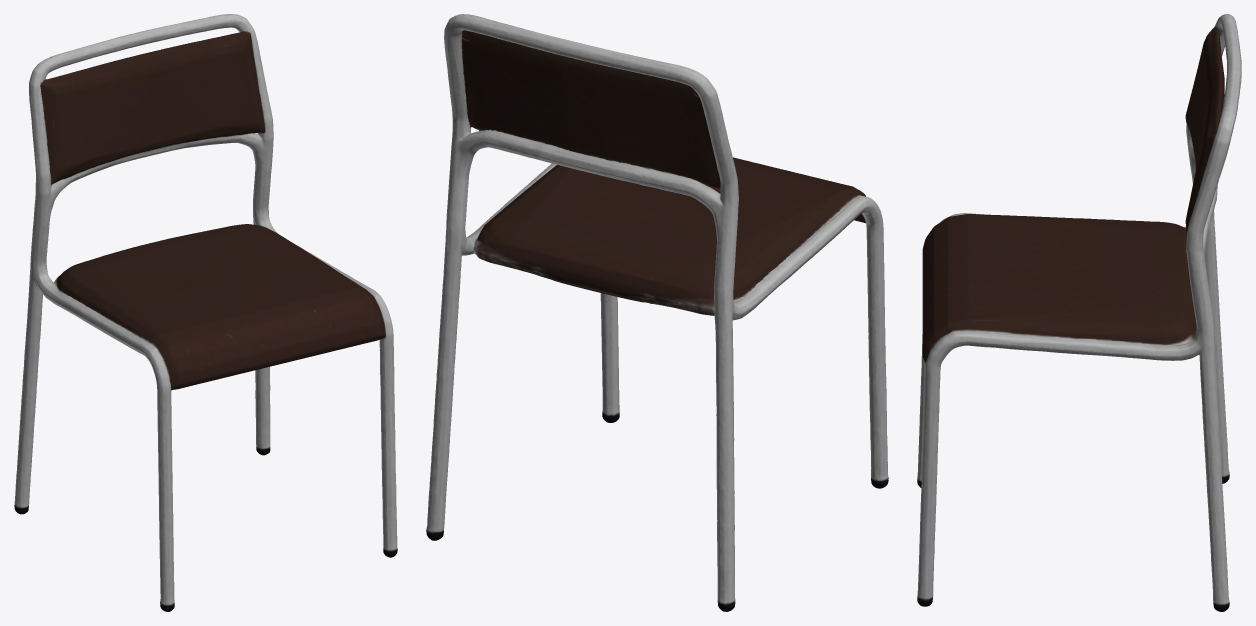
The model's file is Contemporary Armless Upholstered Side Chair [g8whi8].glb.
3 views of the same model, side by side, from view 1: azimuth 30°, elevation 25°; view 2: azimuth 150°, elevation 25°; view 3: azimuth 270°, elevation 25° (orthographic). The views are drawn at different scales.
Visible parts, largest first — view 1: world; view 2: world; view 3: world.
Boxes of the visible parts, x1,y1,x2,y2 form: world: (14, 14, 397, 611); world: (426, 14, 888, 611); world: (917, 14, 1241, 611).
Size of the model in its own units: 0.5935 by 0.9971 by 0.6047.
1 material, 1 textured.
